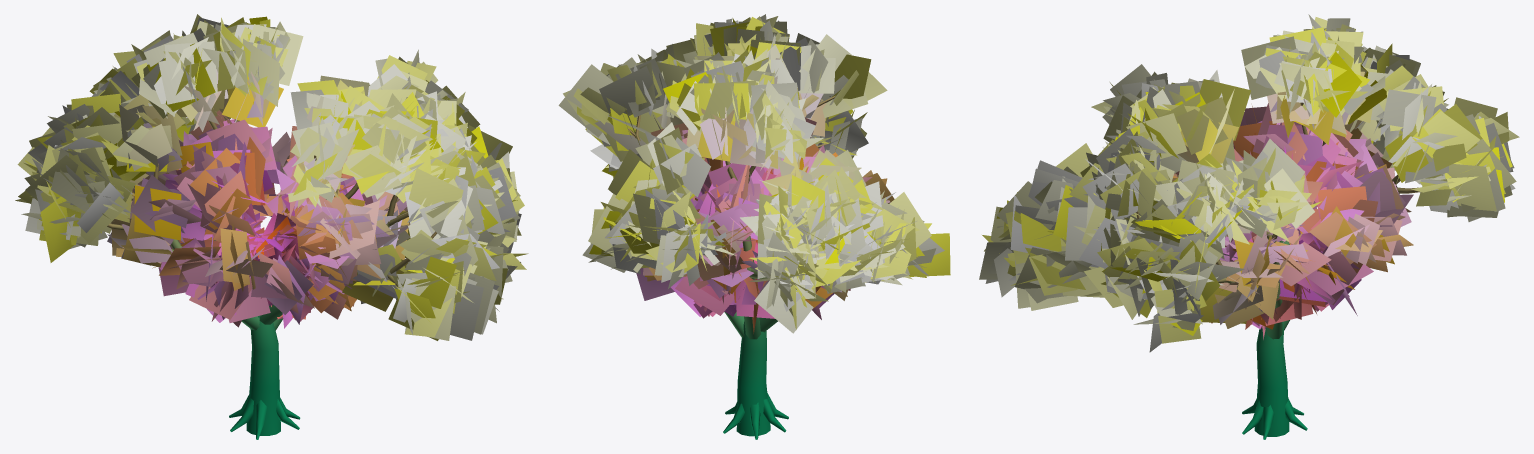
The model's file is tree_oak.glb.
3 views of the same model, side by side, from view 1: azimuth 30°, elevation 25°; view 2: azimuth 150°, elevation 25°; view 3: azimuth 270°, elevation 25° (orthographic). The views are drawn at different scales.
Parts seen in each view (by area): view 1: tree_oak_cards, tree_oak_bark; view 2: tree_oak_cards, tree_oak_bark; view 3: tree_oak_cards, tree_oak_bark.
Boxes of the visible parts, bbox=[...] form: tree_oak_cards: bbox=[15, 14, 528, 340]; tree_oak_bark: bbox=[107, 119, 437, 439]; tree_oak_cards: bbox=[558, 14, 950, 333]; tree_oak_bark: bbox=[628, 95, 835, 439]; tree_oak_cards: bbox=[979, 14, 1519, 352]; tree_oak_bark: bbox=[1136, 102, 1420, 439].
Bounding box in the file's own units: 14.26 × 12.59 × 15.63.
